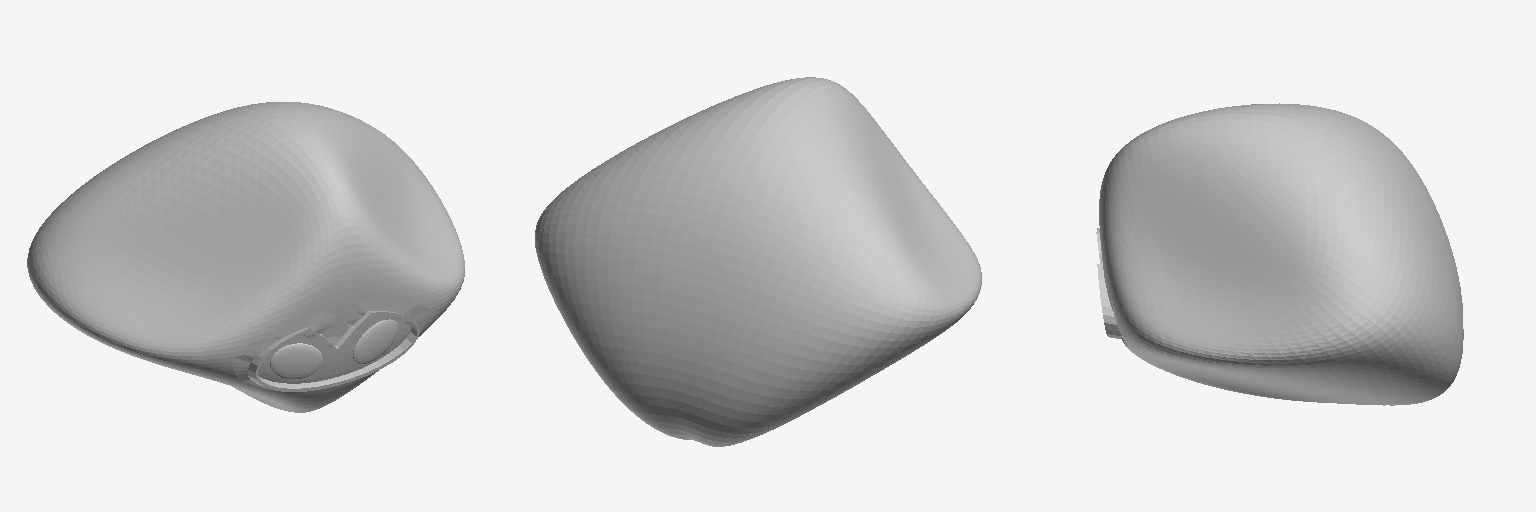
File: wingmould_C.obj
3 renders of one model, left to right at view 1: azimuth 30°, elevation 25°; view 2: azimuth 150°, elevation 25°; view 3: azimuth 270°, elevation 25°, orthographic.
Parts seen in each view (by area): view 1: Sphere.004; view 2: Sphere.004; view 3: Sphere.004.
Boxes of the visible parts, box(x1,y1,x2,y2) form: Sphere.004: box(27, 102, 464, 412); Sphere.004: box(535, 77, 981, 446); Sphere.004: box(1096, 103, 1463, 405).
Size of the model in its own units: 1.86 by 1.33 by 1.51.